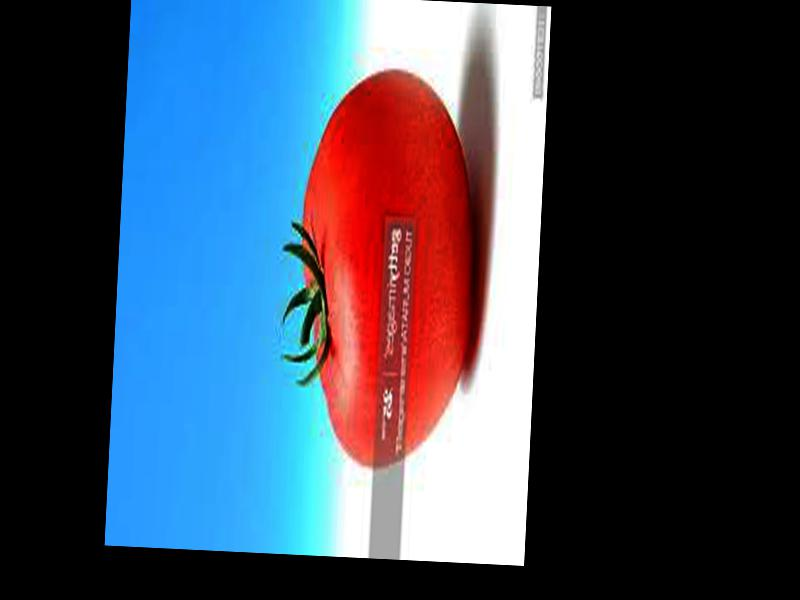Tomato: (291, 68, 481, 474)
